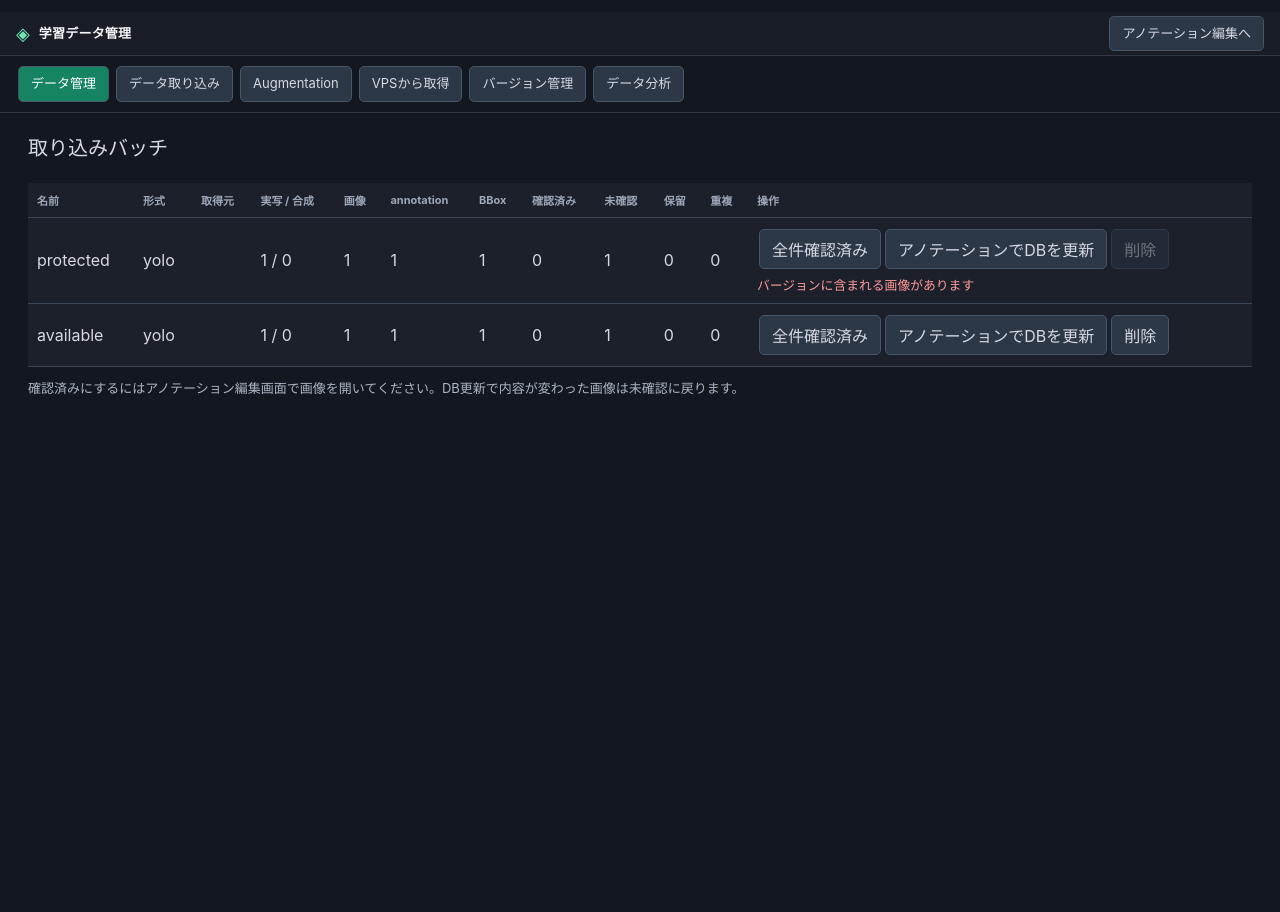
it: disables protected batch deletion and reports a failed delete without removing the row
Check: the button "削除" in the row of "protected" is disabled, box [1111, 228, 1169, 268]
Check: the text "バージョンに含まれる画像があります" is shown, box [757, 274, 977, 294]
Click the button "削除" in the row of "available": (1140, 334) [1111, 314, 1169, 354]
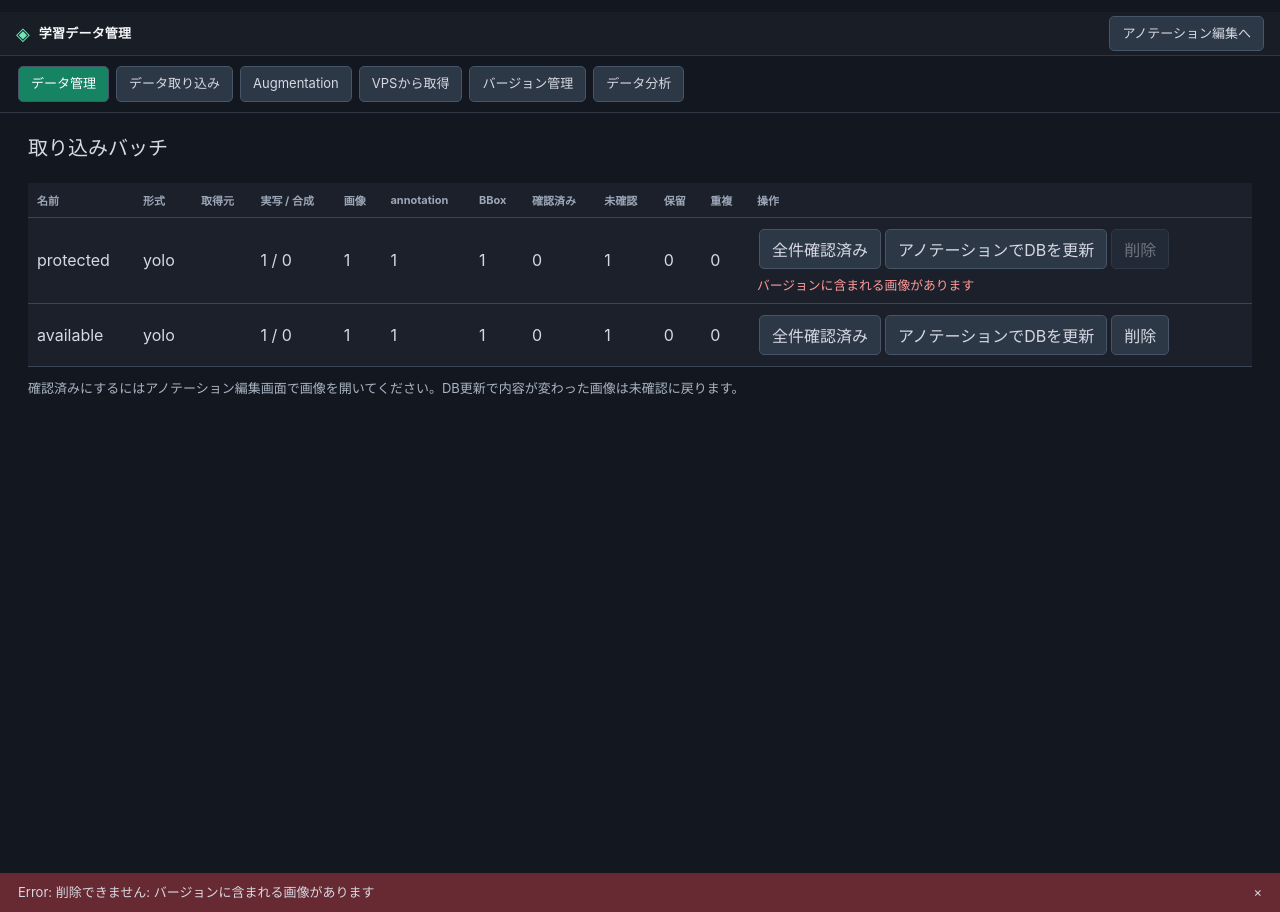
Check: the text "available" is shown, box [28, 303, 134, 366]
Check: the text "Error: 削除できません: バージョンに含まれる画像があります ×" is shown, box [0, 872, 1279, 911]
